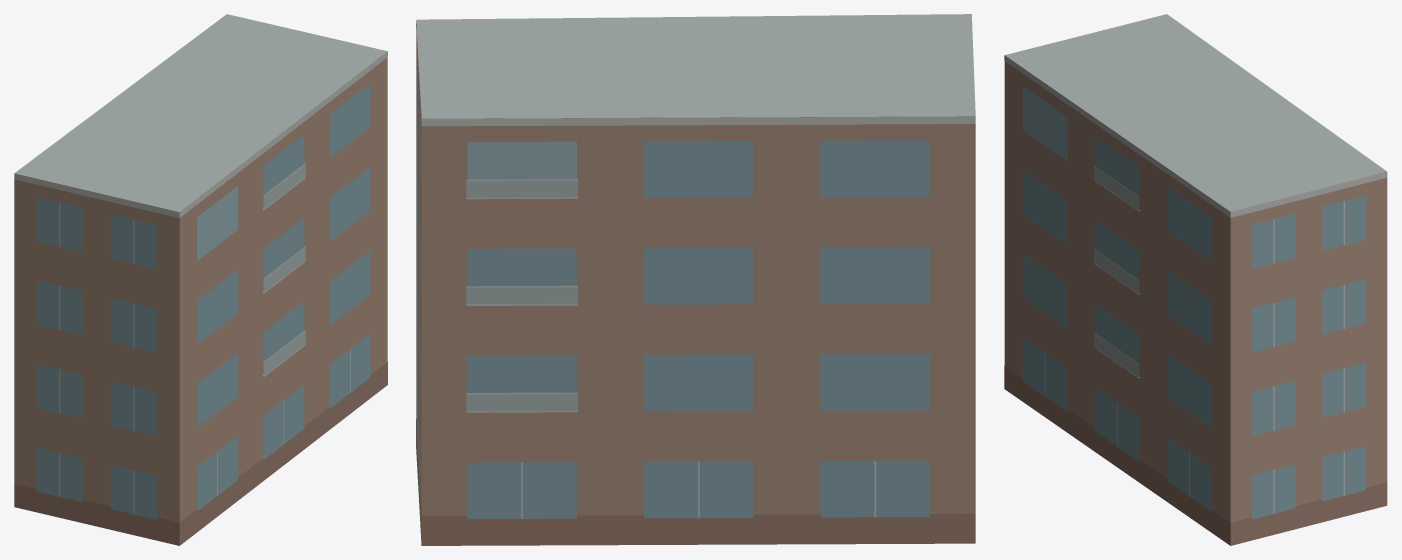
Rendered from survey-upis-32780655.glb.
3 views of the same model, side by side, from view 1: azimuth 30°, elevation 25°; view 2: azimuth 150°, elevation 25°; view 3: azimuth 270°, elevation 25° (orthographic). The views are drawn at different scales.
Parts seen in each view (by area): view 1: survey-upis-32780655.tmp; view 2: survey-upis-32780655.tmp; view 3: survey-upis-32780655.tmp.
Boxes of the visible parts, x1=… form: survey-upis-32780655.tmp: x1=14, y1=14, x2=387, y2=545; survey-upis-32780655.tmp: x1=416, y1=14, x2=975, y2=545; survey-upis-32780655.tmp: x1=1004, y1=14, x2=1387, y2=545.
Bounding box in the file's own units: 17.36 × 13.65 × 14.19.
